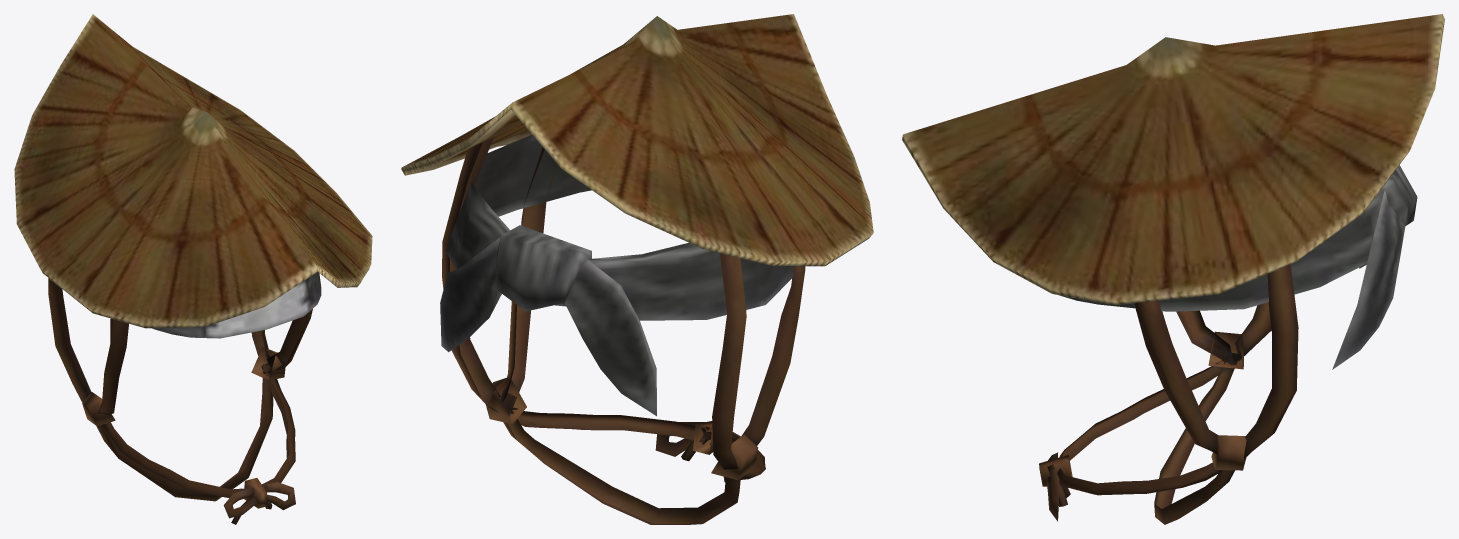
The model's file is helm-base.glb.
3 renders of one model, left to right at view 1: azimuth 30°, elevation 25°; view 2: azimuth 150°, elevation 25°; view 3: azimuth 270°, elevation 25°, orthographic. The views are drawn at different scales.
Size of the model in its own units: 0.2744 by 0.3554 by 0.3503.
Materials: 1 (1 with a texture image).
